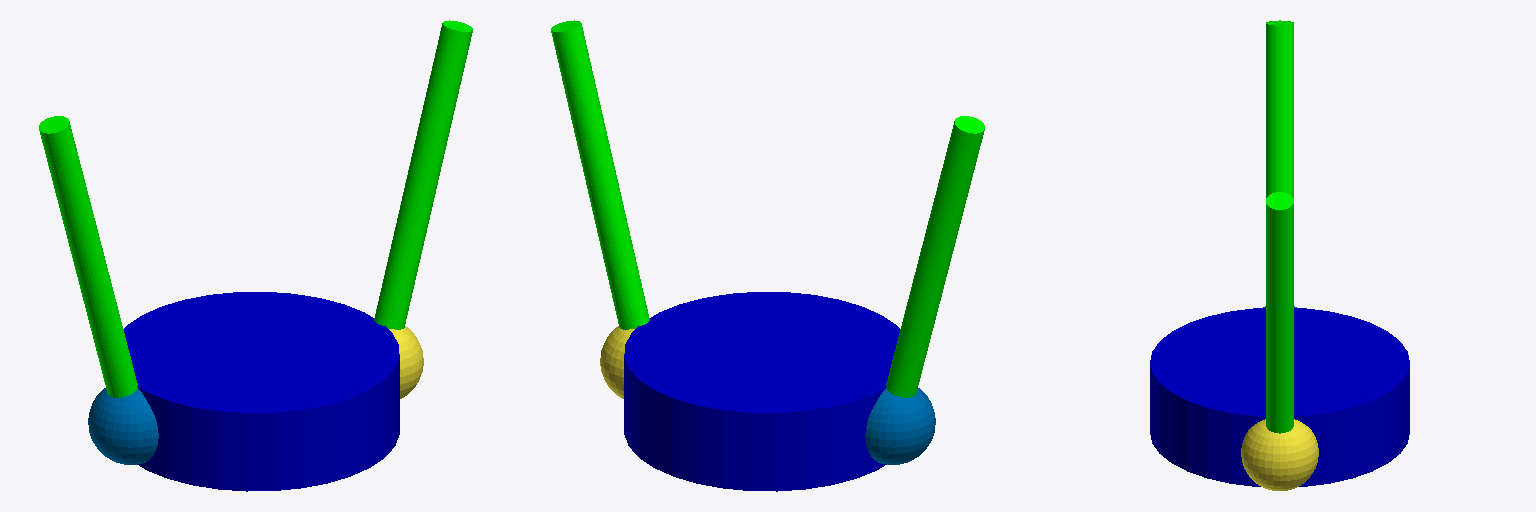
URDF robot description (gripper_2f_1j):
<?xml version='1.0' encoding='UTF-8'?>
<robot name="gripper_2f_1j">
  <link name="palm">
    <inertial>
      <origin xyz="0.0 0.0 0.0" rpy="0.0 -0.0 0.0"/>
      <mass value="1.0"/>
      <inertia ixx="1.0" ixy="0.0" ixz="0.0" iyy="1.0" iyz="0.0" izz="1.0"/>
    </inertial>
    <visual>
      <geometry>
        <cylinder radius="0.05" length="0.03"/>
      </geometry>
      <material name="blue"/>
      <origin xyz="0.0 0.0 0.0" rpy="0.0 -0.0 0.0"/>
    </visual>
    <collision>
      <geometry>
        <cylinder radius="0.05" length="0.03"/>
      </geometry>
      <origin xyz="0.0 0.0 0.0" rpy="0.0 0.0 0.0"/>
    </collision>
  </link>
  <link name="f11">
    <inertial>
      <origin xyz="0.0 0.0 0.0" rpy="0.0 -0.0 0.0"/>
      <mass value="1.0"/>
      <inertia ixx="1.0" ixy="0.0" ixz="0.0" iyy="1.0" iyz="0.0" izz="1.0"/>
    </inertial>
    <visual>
      <geometry>
        <cylinder radius="0.005466182234323575" length="0.12497727083577778"/>
      </geometry>
      <material name="green"/>
      <origin xyz="0.0 0.0 0.06248863541788889" rpy="0.0 -0.0 0.0"/>
    </visual>
    <collision>
      <geometry>
        <cylinder radius="0.005466182234323575" length="0.12497727083577778"/>
      </geometry>
      <origin xyz="0.0 0.0 0.05" rpy="0.0 0.0 0.0"/>
    </collision>
  </link>
  <link name="f21">
    <inertial>
      <origin xyz="0.0 0.0 0.0" rpy="0.0 -0.0 0.0"/>
      <mass value="1.0"/>
      <inertia ixx="1.0" ixy="0.0" ixz="0.0" iyy="1.0" iyz="0.0" izz="1.0"/>
    </inertial>
    <visual>
      <geometry>
        <cylinder radius="0.005466182234323575" length="0.12497727083577778"/>
      </geometry>
      <material name="green"/>
      <origin xyz="0.0 0.0 0.06248863541788889" rpy="0.0 -0.0 0.0"/>
    </visual>
    <collision>
      <geometry>
        <cylinder radius="0.005466182234323575" length="0.12497727083577778"/>
      </geometry>
      <origin xyz="0.0 0.0 0.05" rpy="0.0 0.0 0.0"/>
    </collision>
  </link>
  <link name="f11_base">
    <inertial>
      <origin xyz="0.0 0.0 0.0" rpy="0.0 -0.0 0.0"/>
      <mass value="1.0"/>
      <inertia ixx="1.0" ixy="0.0" ixz="0.0" iyy="1.0" iyz="0.0" izz="1.0"/>
    </inertial>
    <visual>
      <geometry>
        <sphere radius="0.015"/>
      </geometry>
      <origin xyz="0.0 0.0 0.0" rpy="0.0 -0.0 0.0"/>
    </visual>
  </link>
  <link name="f21_base">
    <inertial>
      <origin xyz="0.0 0.0 0.0" rpy="0.0 -0.0 0.0"/>
      <mass value="1.0"/>
      <inertia ixx="1.0" ixy="0.0" ixz="0.0" iyy="1.0" iyz="0.0" izz="1.0"/>
    </inertial>
    <visual>
      <geometry>
        <sphere radius="0.015"/>
      </geometry>
      <origin xyz="0.0 0.0 0.0" rpy="0.0 -0.0 0.0"/>
    </visual>
  </link>
  <joint name="f11_joint" type="revolute">
    <dynamics damping="100.0" friction="1.0"/>
    <limit effort="30.0" velocity="2.0" lower="-0.6" upper="0.25"/>
    <parent link="f11_base"/>
    <child link="f11"/>
    <axis xyz="0. 1. 0."/>
    <origin xyz="0.0 0.0 0.0" rpy="0.0 0.25 0.0"/>
  </joint>
  <joint name="f21_joint" type="revolute">
    <dynamics damping="100.0" friction="1.0"/>
    <limit effort="30.0" velocity="2.0" lower="-0.6" upper="0.25"/>
    <parent link="f21_base"/>
    <child link="f21"/>
    <axis xyz=" 0. -1.  0."/>
    <origin xyz="0.0 0.0 0.0" rpy="0.0 -0.25 0.0"/>
  </joint>
  <joint name="f11_base_joint" type="fixed">
    <parent link="palm"/>
    <child link="f11_base"/>
    <axis xyz="1. 0. 0."/>
    <origin xyz="0.05 0.0 0.0" rpy="0.0 0.0 0.0"/>
  </joint>
  <joint name="f21_base_joint" type="fixed">
    <parent link="palm"/>
    <child link="f21_base"/>
    <axis xyz="1. 0. 0."/>
    <origin xyz="-0.05 -0.0 0.0" rpy="0.0 0.0 0.0"/>
  </joint>
  <material name="blue">
    <color rgba="0.  0.  0.8 1. "/>
  </material>
  <material name="green">
    <color rgba="0. 1. 0. 1."/>
  </material>
</robot>

--- Render facts (derived) ---
Views: 3 orthographic renders of the robot side by side, from view 1: azimuth 30°, elevation 25°; view 2: azimuth 150°, elevation 25°; view 3: azimuth 270°, elevation 25°.
Robot: gripper_2f_1j — 5 links, 4 joints (2 revolute, 2 fixed); root link palm; default pose: all joints at 0.
Links seen in each view (by area): view 1: palm, f11, f21, f21_base, f11_base; view 2: palm, f11, f21, f21_base, f11_base; view 3: palm, f11, f21, f11_base.
Link boxes in pixels (x1,y1,x2,y2): palm: [124, 292, 399, 491]; f11: [374, 20, 472, 329]; f21: [39, 116, 137, 397]; f21_base: [88, 388, 158, 464]; f11_base: [389, 326, 423, 398]; palm: [624, 292, 899, 491]; f11: [551, 20, 649, 329]; f21: [886, 116, 984, 397]; f21_base: [865, 388, 935, 464]; f11_base: [600, 326, 634, 398]; palm: [1150, 308, 1409, 486]; f11: [1266, 192, 1293, 433]; f21: [1266, 20, 1293, 197]; f11_base: [1241, 419, 1318, 490].
Size in the robot's own frame: 0.1724 by 0.1 by 0.1374 metres.
Geometry: primitives only (box / cylinder / sphere), no mesh files.